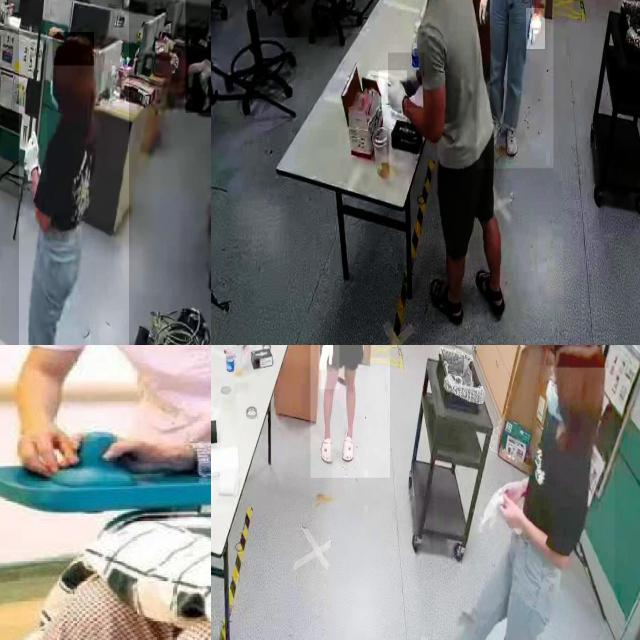face_mask: (536, 366, 570, 433)
hand_glove: (388, 52, 424, 108), (18, 114, 47, 182), (379, 70, 407, 129), (318, 345, 339, 389), (526, 8, 546, 50), (472, 0, 493, 25), (370, 345, 391, 358)
hand_noglove: (65, 429, 193, 478), (12, 422, 78, 478), (499, 497, 527, 533)
head_nohelmet: (52, 32, 94, 66), (554, 345, 608, 367)
person: (0, 345, 211, 640), (433, 345, 614, 640), (389, 0, 506, 343), (18, 0, 129, 345), (0, 345, 211, 479), (476, 0, 553, 169), (310, 345, 390, 478), (185, 0, 211, 114)
shoes: (504, 117, 520, 158)
